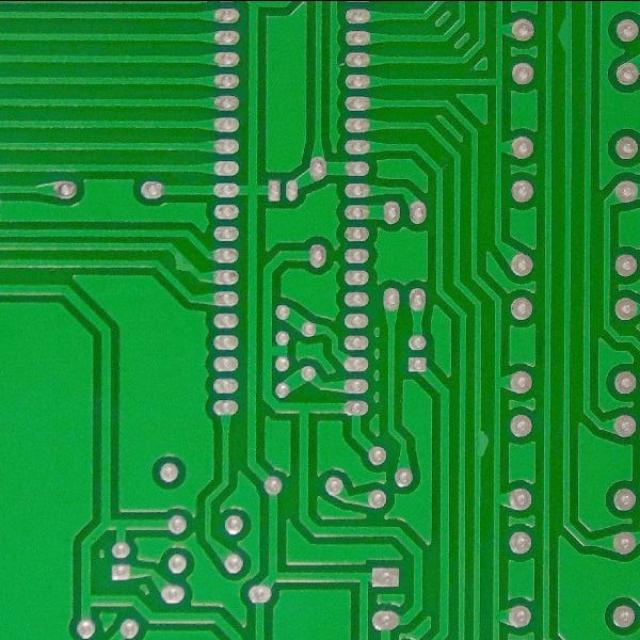Spur: (555, 14, 577, 55), (470, 424, 491, 463), (171, 251, 196, 276)
